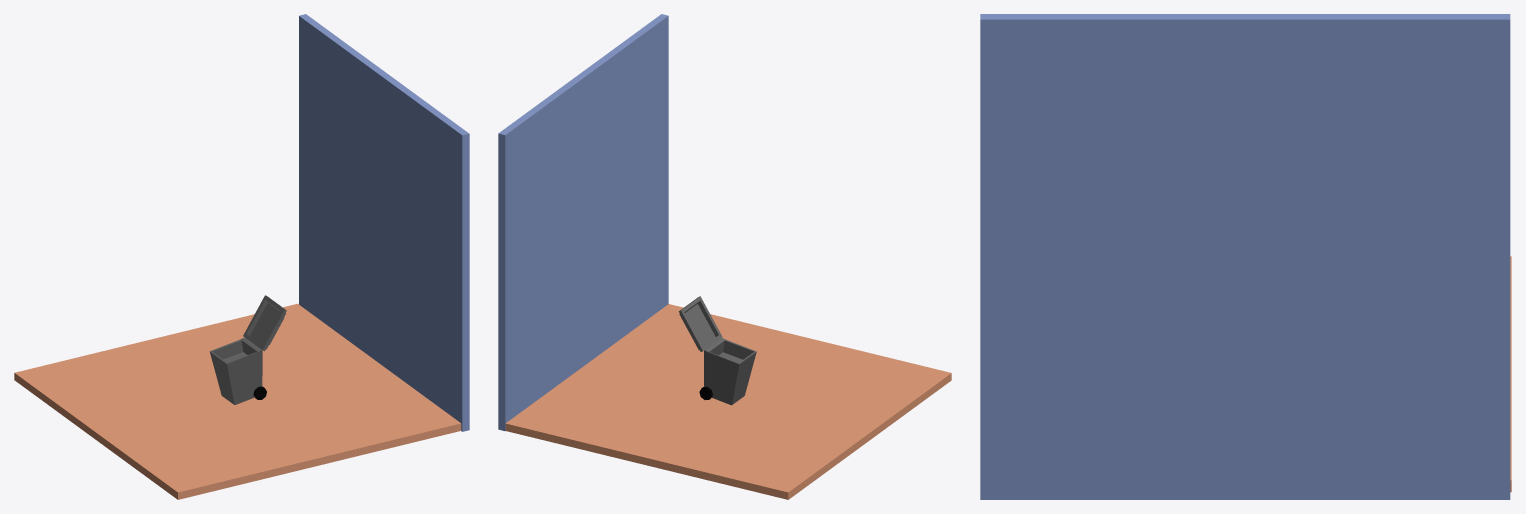
3 views of the same model, side by side, from view 1: azimuth 30°, elevation 25°; view 2: azimuth 150°, elevation 25°; view 3: azimuth 270°, elevation 25° (orthographic). The views are drawn at different scales.
Parts seen in each view (by area): view 1: Plane.001, Plane, Cube, Plane.002; view 2: Plane.001, Plane, Cube, Plane.002; view 3: Plane.001.
Part boxes in pixels (bbox=[...]): Plane.001: bbox=[299, 14, 469, 431]; Plane: bbox=[14, 303, 461, 499]; Cube: bbox=[209, 337, 262, 404]; Plane.002: bbox=[243, 295, 286, 351]; Plane.001: bbox=[498, 14, 668, 431]; Plane: bbox=[505, 304, 951, 499]; Cube: bbox=[704, 337, 756, 405]; Plane.002: bbox=[679, 296, 722, 351]; Plane.001: bbox=[980, 14, 1510, 499].
Size of the model in its own units: 1932 by 1880 by 1886.
